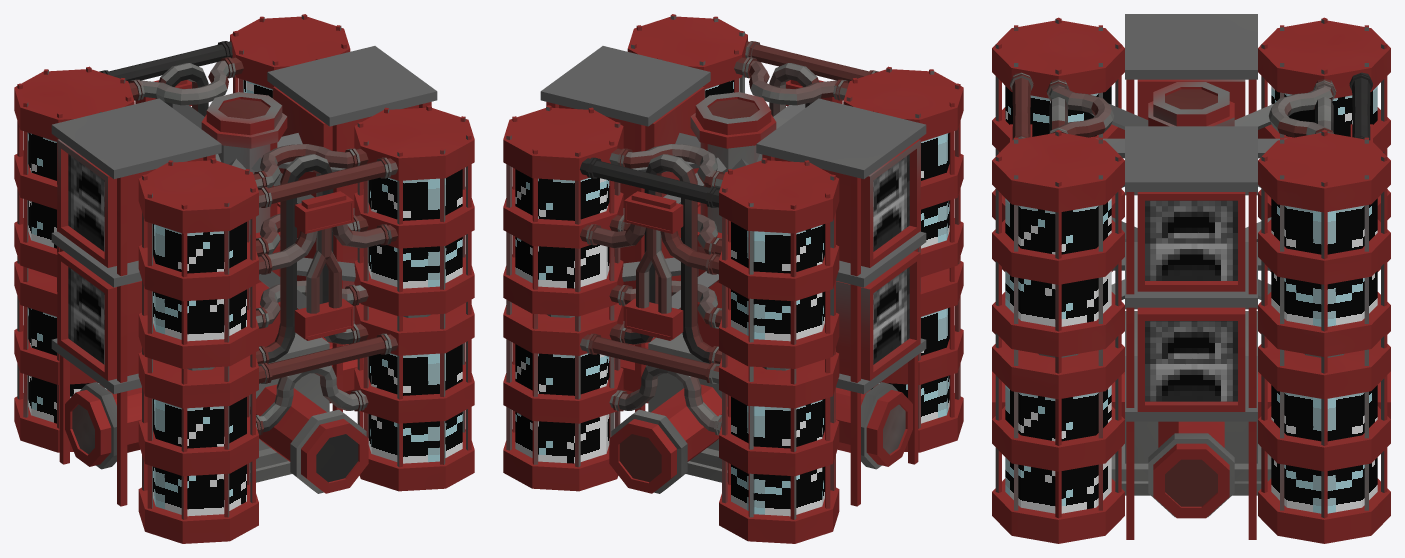
The model's file is steam_genertaor.obj.
3 renders of one model, left to right at view 1: azimuth 30°, elevation 25°; view 2: azimuth 150°, elevation 25°; view 3: azimuth 270°, elevation 25°, orthographic. The views are drawn at different scales.
Visible parts, largest first — view 1: Cube.013_Cube.042; view 2: Cube.013_Cube.042; view 3: Cube.013_Cube.042.
Part boxes in pixels (<box>): Cube.013_Cube.042: <box>14,14,474,543</box>; Cube.013_Cube.042: <box>503,14,963,543</box>; Cube.013_Cube.042: <box>992,14,1390,543</box>.
Bounding box in the file's own units: 3 × 3 × 3.
